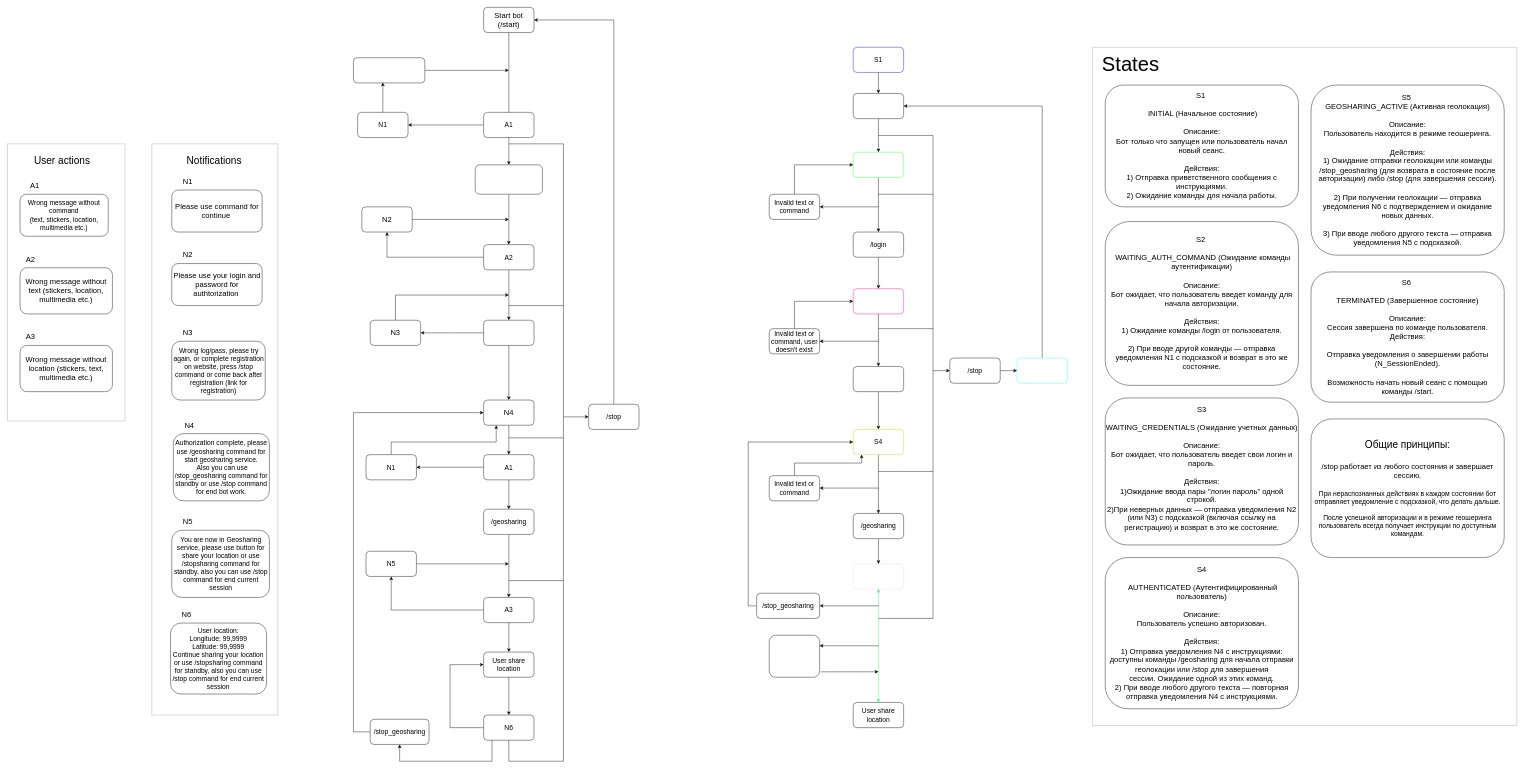
This 1525x772 diagram has some shape labels left out. The shapes that lost their labels are listed below. From the top down, each one's centre as x and y in pixels, then its label:
the point at 389,70: Welcome message with list of commands
the point at 878,106: /start
the point at 508,179: Authorization command (/login)
the point at 878,164: S2
the point at 878,301: S3
the point at 508,332: User login/password
the point at 878,379: Correct login and password
the point at 1042,370: S6
the point at 878,576: S5
the point at 794,656: Invalid location or text, command
